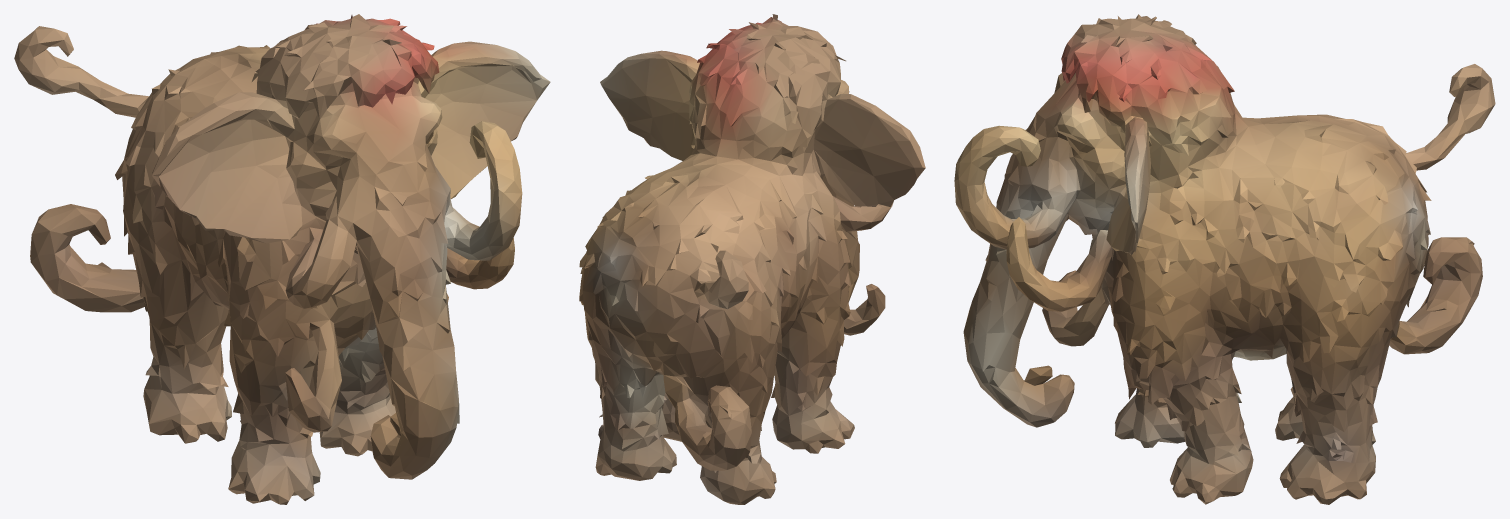
File: mamut.glb
The picture shows the model from 3 angles, left to right: view 1: azimuth 30°, elevation 25°; view 2: azimuth 150°, elevation 25°; view 3: azimuth 270°, elevation 25°; orthographic projection. The views are drawn at different scales.
Parts seen in each view (by area): view 1: geometry_0; view 2: geometry_0; view 3: geometry_0.
Part boxes in pixels (bbox=[...]): geometry_0: bbox=[14, 14, 550, 504]; geometry_0: bbox=[579, 14, 925, 504]; geometry_0: bbox=[954, 14, 1495, 504].
Size of the model in its own units: 0.8923 by 1 by 1.12.
